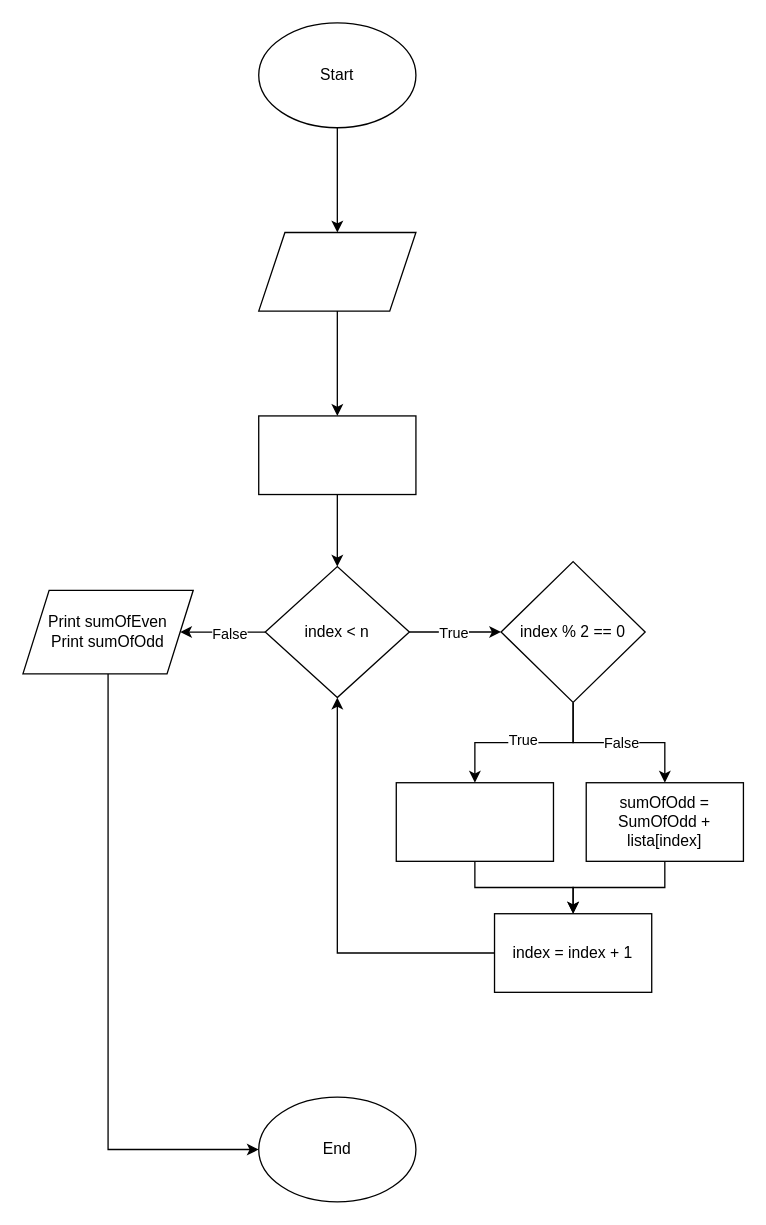
Some shapes in this 766 by 1225 pixel diagram are drawn without their labels. The box of each missing label's shape, as (x1, y1, x2, y2) in pixels:
Input n Input lista: (257, 231, 416, 311)
sumOfEven = 0 SumOfOdd = 0 index = 0: (257, 415, 416, 495)
sumOfEven = SumOfEven + lista[index]: (395, 781, 553, 861)
